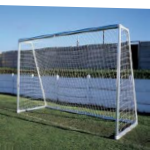goals: (16, 22, 140, 141)
